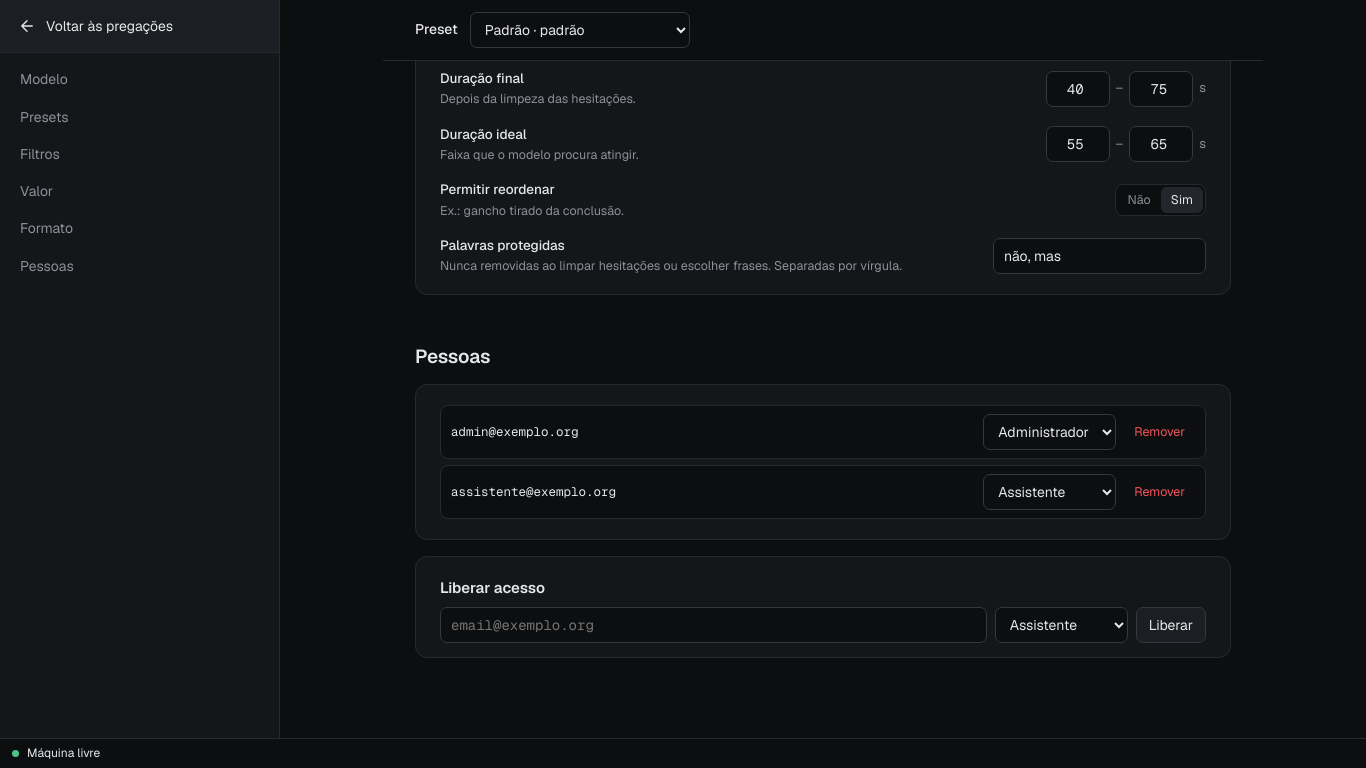
removes a member by the e-mail in the body
This screenshot has width=1366, height=768.
(page scrolled)
Check: the navigation bar named "Seções das configurações" is shown, box [0,0,280,738]
Check: the dropdown named "Papel de admin@exemplo.org" is shown, box [983,414,1116,450]
Click the button with aria-label "Remover assistente@exemplo.org" at (1160, 492), box [1124,478,1195,506]
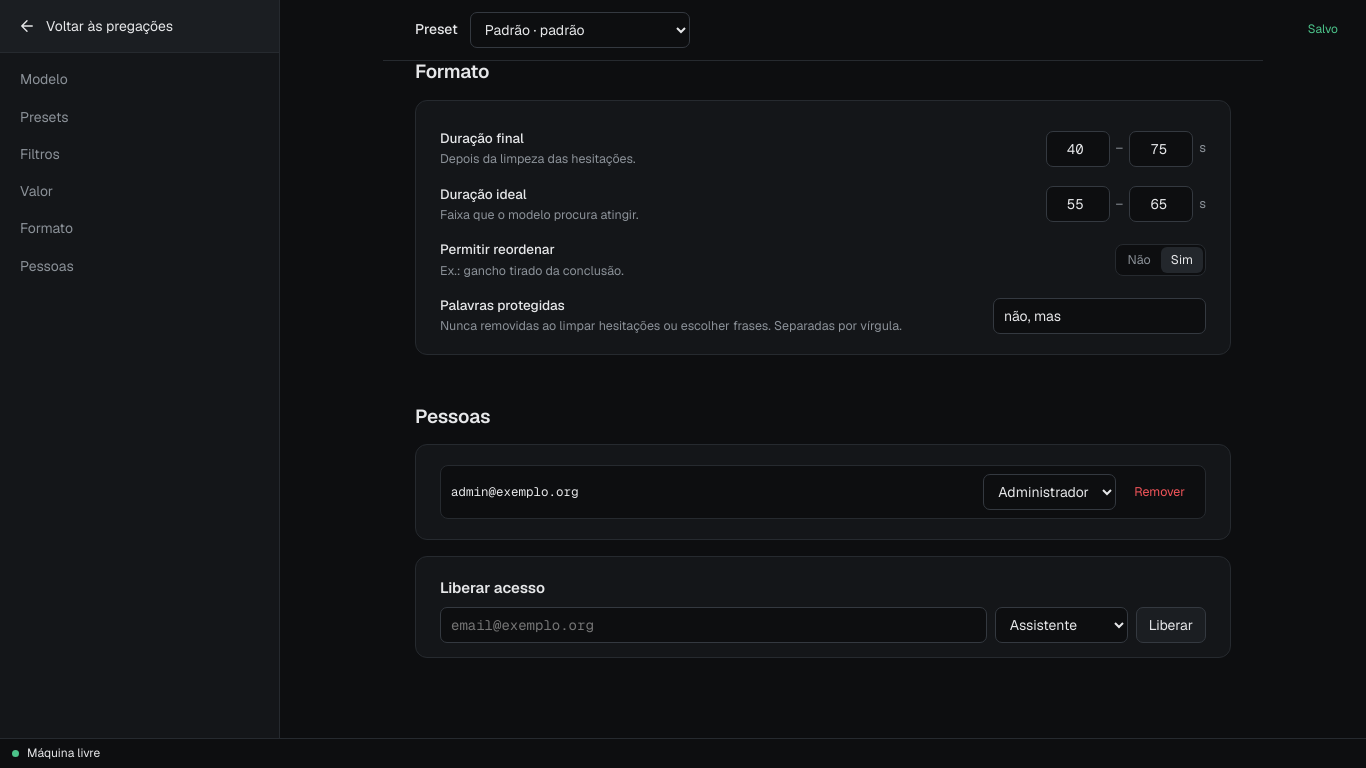
Check: the text "Salvo" is shown, box [1308,21,1338,37]
